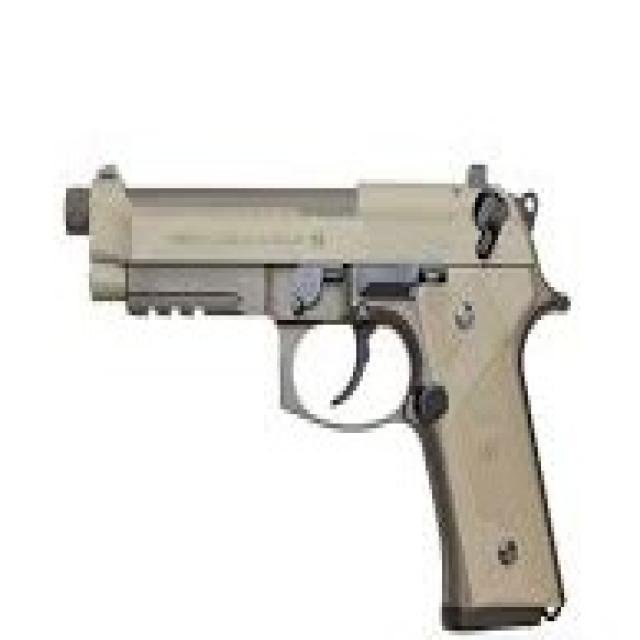pistol: (62, 155, 573, 630)
